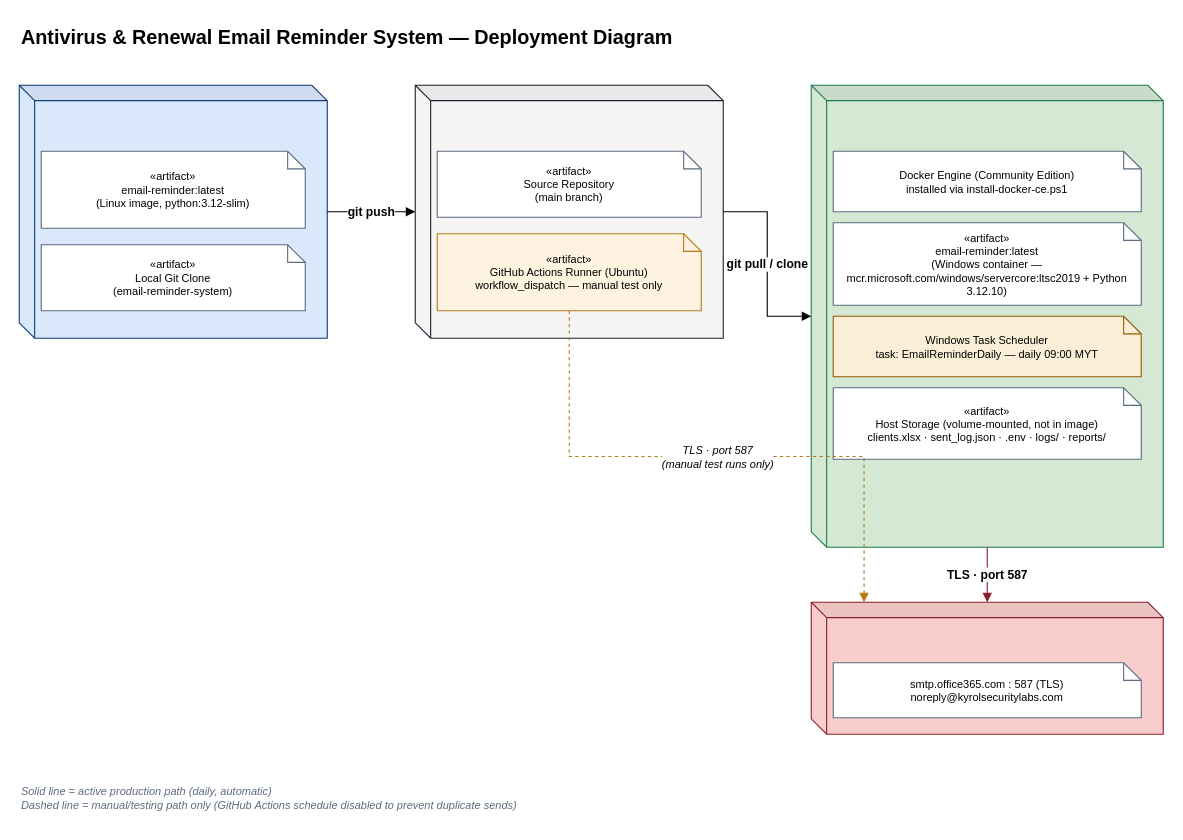
The diagram is 1183 pixels wide and 840 high, and some of its shapes have lost their labels. The shapes that lost their labels are listed below. From the top down, each one's box as (x1, y1, x2, y2) in pixels, then its label:
(18, 84, 327, 338): Developer Workstation «device» Windows 10/11 + Docker Desktop (WSL2 backend)
(414, 84, 723, 338): GitHub «device» Cloud source control & CI runner
(810, 84, 1163, 547): Production Server «device» Windows Server 2019 Standard
(810, 601, 1163, 734): Enterprise Mail Relay «external system»
